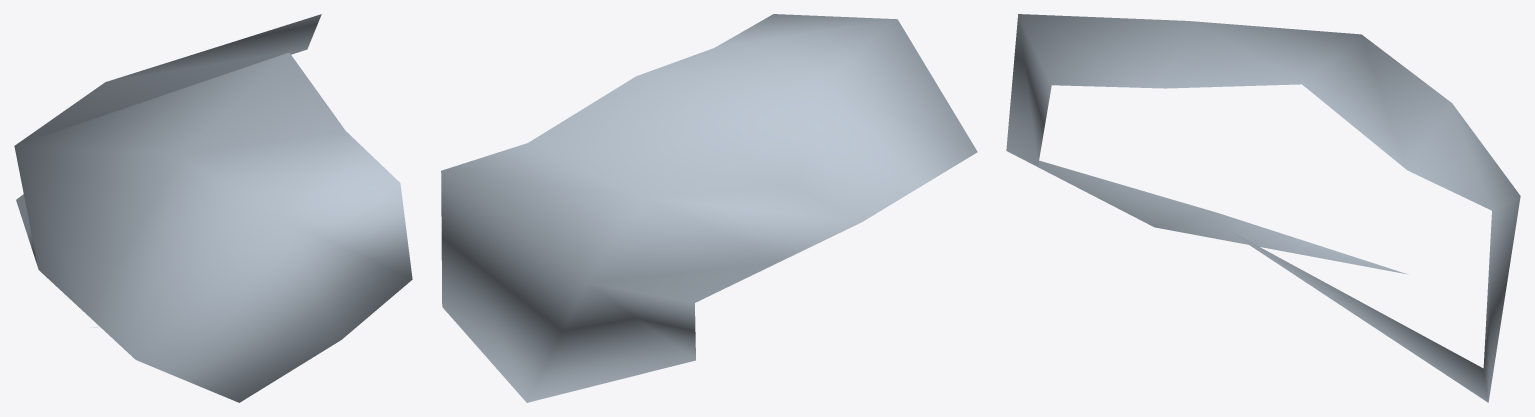
The model's file is articular-capsule-of-acromioclavicular-joint-r.glb.
3 renders of one model, left to right at view 1: azimuth 30°, elevation 25°; view 2: azimuth 150°, elevation 25°; view 3: azimuth 270°, elevation 25°, orthographic. The views are drawn at different scales.
Visible parts, largest first — view 1: Articular capsule of acromioclavicular joint.r; view 2: Articular capsule of acromioclavicular joint.r; view 3: Articular capsule of acromioclavicular joint.r.
Part boxes in pixels (bbox=[...]): Articular capsule of acromioclavicular joint.r: bbox=[14, 14, 412, 402]; Articular capsule of acromioclavicular joint.r: bbox=[441, 14, 977, 402]; Articular capsule of acromioclavicular joint.r: bbox=[1006, 14, 1520, 402].
Size of the model in its own units: 0.028 by 0.0212 by 0.0325.
